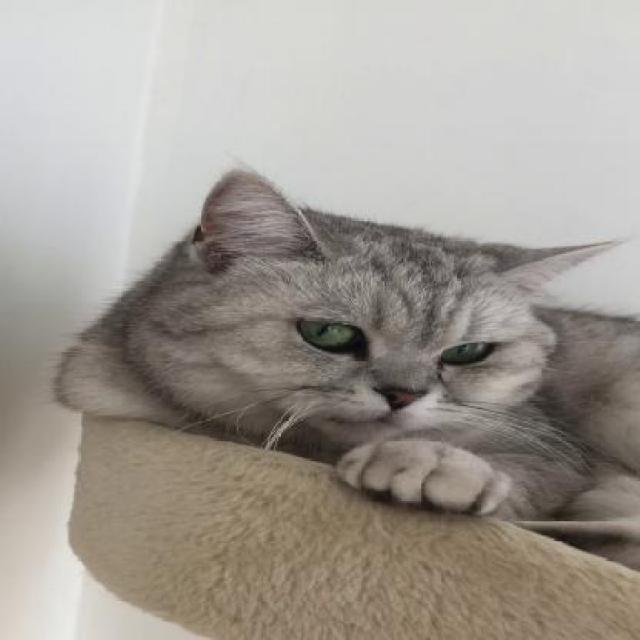cat-face: (173, 163, 624, 436)
